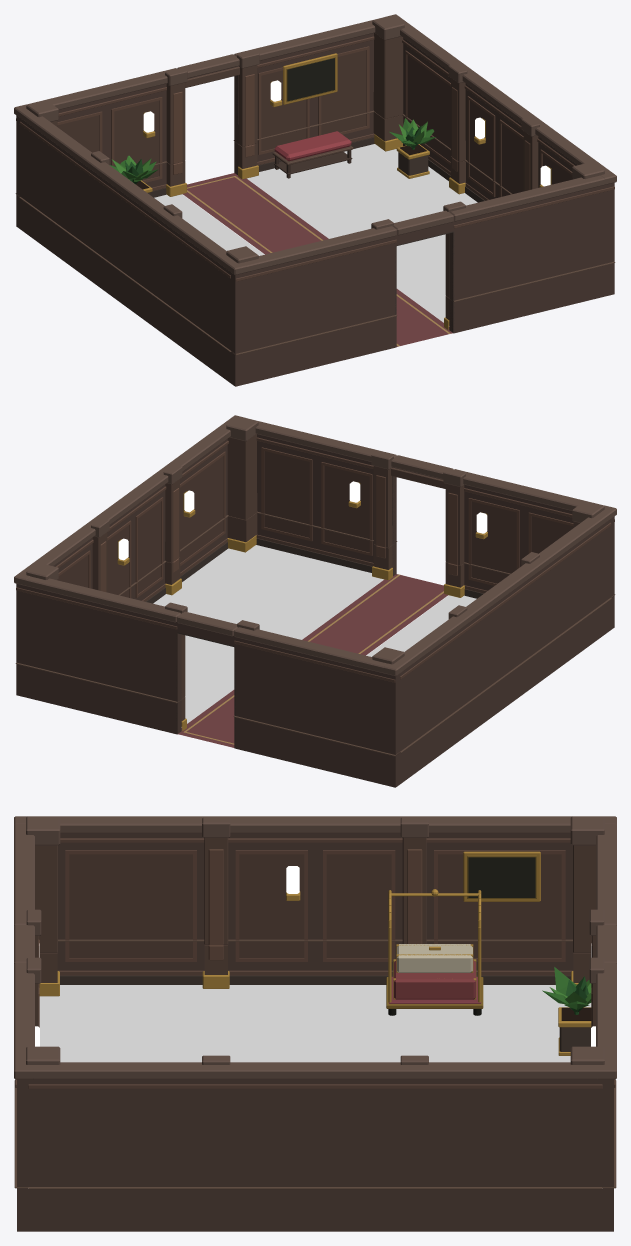
Rendered from corridorS.glb.
3 renders of one model, top to bottom at view 1: azimuth 30°, elevation 25°; view 2: azimuth 150°, elevation 25°; view 3: azimuth 270°, elevation 25°, orthographic. The views are drawn at different scales.
Visible parts, largest first — view 1: static, floor, W_west_0_up, W_south_0_up, W_south_1_up, W_north_1_up, W_east_0_up, W_north_0_up; view 2: static, floor, W_west_0_up, W_north_0_up, W_north_1_up, W_south_1_up, W_east_0_up, W_south_0_up; view 3: W_east_0_up, W_west_0_up, static, floor, W_north_0_up, W_south_0_up, W_north_1_up, W_south_1_up.
Boxes of the visible parts, x1,y1,x2,y2 form: static: (15,92,615,386); floor: (154,144,477,346); W_west_0_up: (14,104,246,350); W_south_0_up: (226,210,453,353); W_south_1_up: (443,162,616,300); W_north_1_up: (234,15,404,146); W_east_0_up: (385,14,616,193); W_north_0_up: (14,54,239,196); static: (15,493,615,787); floor: (153,545,476,747); W_west_0_up: (384,505,616,751); W_north_0_up: (177,611,404,754); W_north_1_up: (14,563,187,701); W_south_1_up: (226,416,396,547); W_east_0_up: (14,415,245,594); W_south_0_up: (391,455,616,597); W_east_0_up: (14,1055,616,1186); W_west_0_up: (14,816,616,945); static: (14,889,616,1231); floor: (39,985,591,1062); W_north_0_up: (570,816,616,987); W_south_0_up: (14,816,60,987); W_north_1_up: (570,957,616,1186); W_south_1_up: (14,957,60,1186).
Size of the model in its own units: 8.08 by 2.48 by 8.08.
